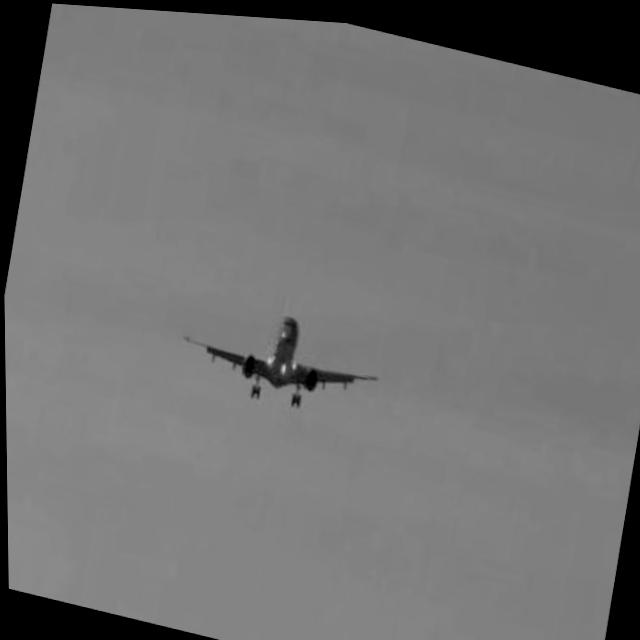aeroplane: (171, 258, 389, 422)
